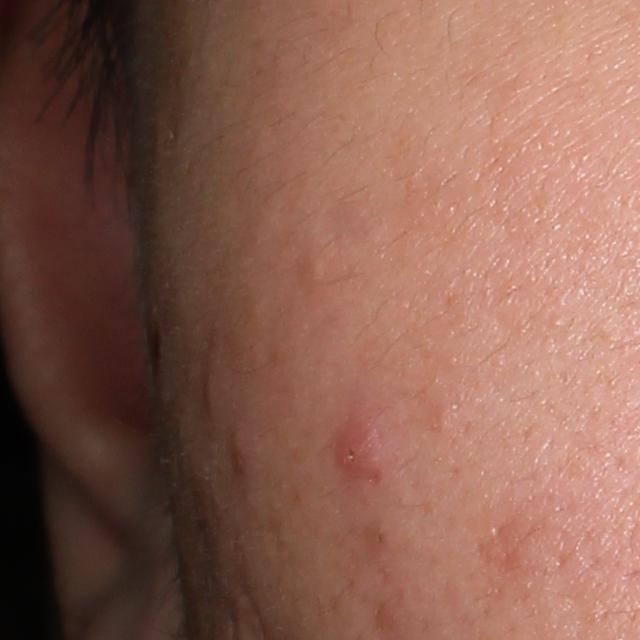comedo: (293, 244, 338, 290), (360, 520, 394, 551)
papule: (333, 414, 389, 478), (229, 423, 254, 476)
